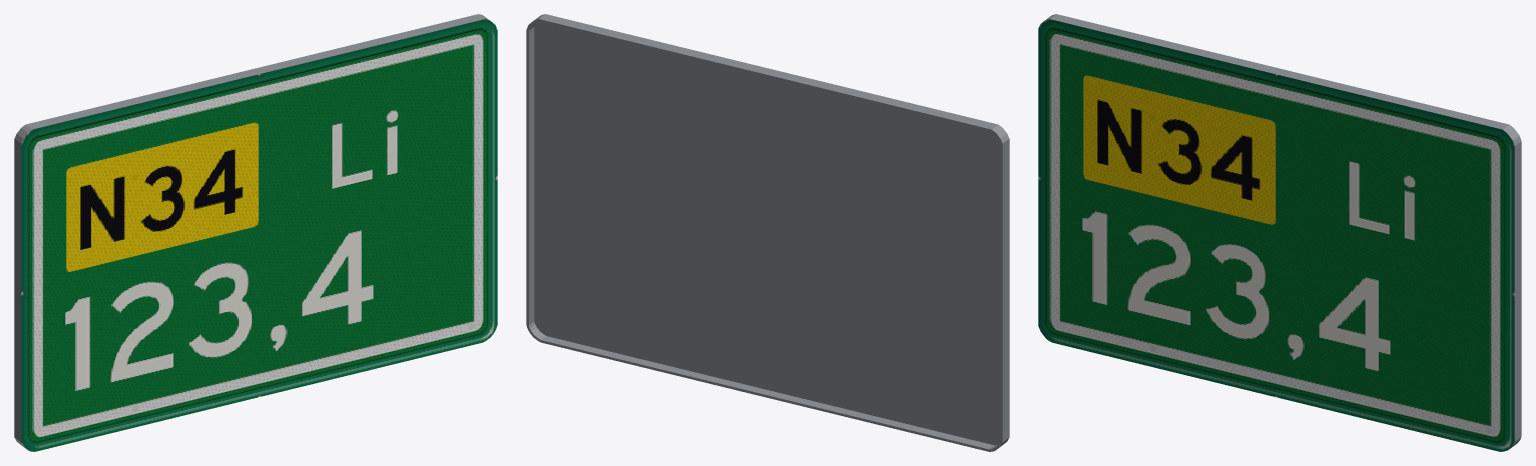
3 renders of one model, left to right at view 1: azimuth 30°, elevation 25°; view 2: azimuth 150°, elevation 25°; view 3: azimuth 330°, elevation 25°, orthographic.
Parts seen in each view (by area): view 1: cat_15b05f9d867b65f8; view 2: cat_15b05f9d867b65f8; view 3: cat_15b05f9d867b65f8.
Boxes of the visible parts, <box> form: cat_15b05f9d867b65f8: <box>14,14,497,451</box>; cat_15b05f9d867b65f8: <box>526,14,1009,451</box>; cat_15b05f9d867b65f8: <box>1038,14,1521,451</box>.
Bounding box in the file's own units: 0.6 × 0.015 × 0.3889.
Materials: 2 (1 with a texture image).
